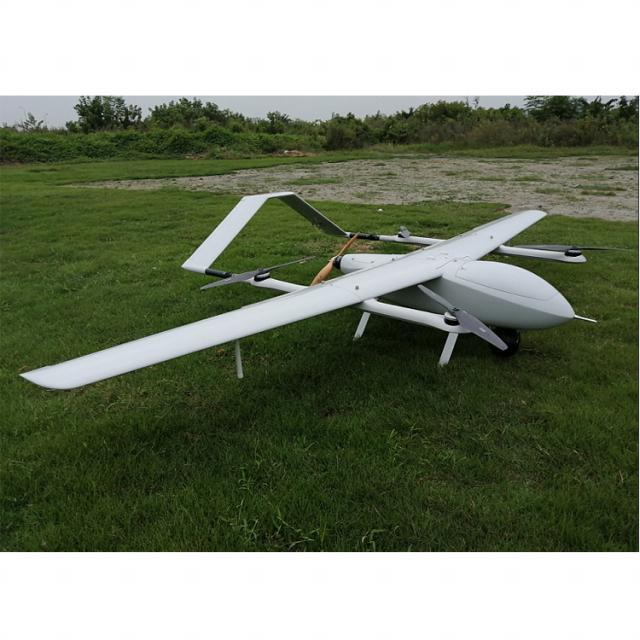UAV: (44, 148, 594, 418)
